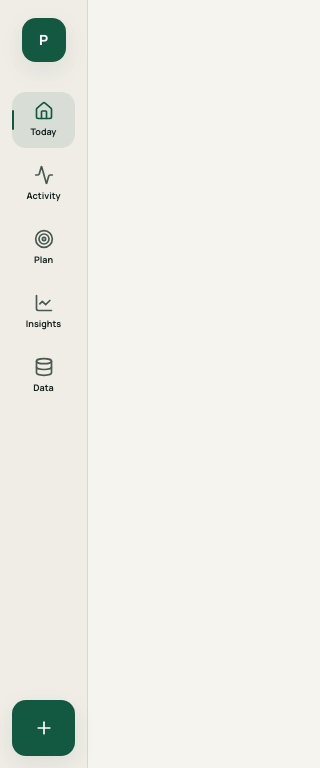
responsive workspace navigation › renders five direct mobile workspace destinations
Click the button "Plan": (44, 248) x1=12 y1=220 x2=75 y2=276
(page scrolled)
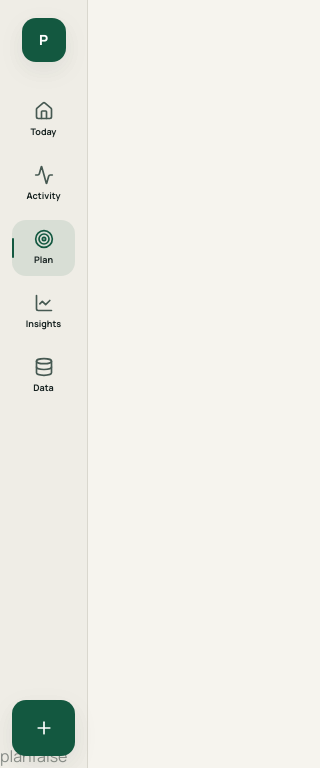
Check: the text with test id "workspace" reads "plan", box x1=0 y1=745 x2=32 y2=767
